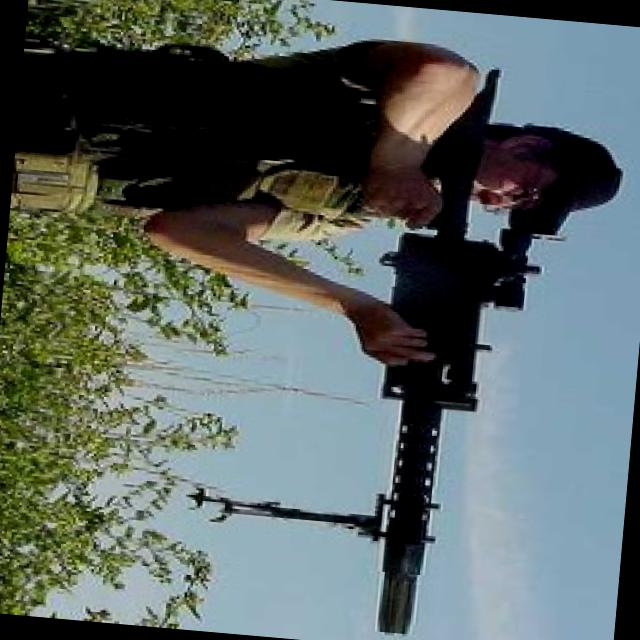long weapon: (225, 208, 560, 639)
